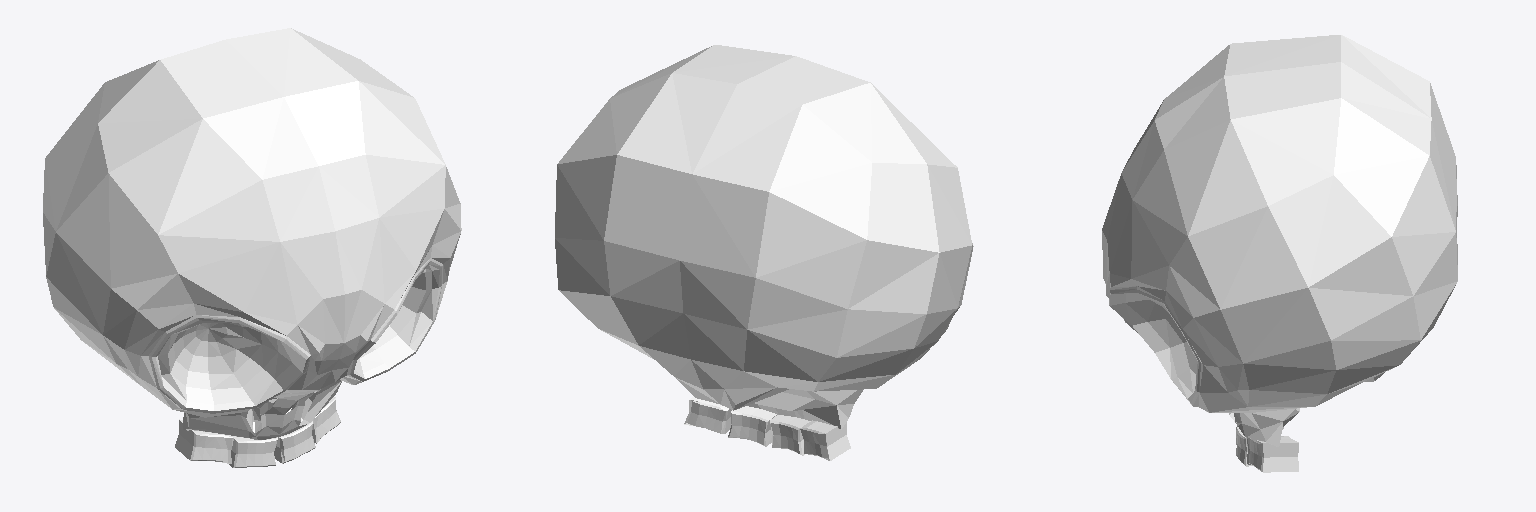
File: czachaobj.obj
3 views of the same model, side by side, from view 1: azimuth 30°, elevation 25°; view 2: azimuth 150°, elevation 25°; view 3: azimuth 270°, elevation 25° (orthographic).
Parts seen in each view (by area): view 1: group1_cialko, grzesznik2_group1; view 2: group1_cialko, grzesznik2_group1; view 3: group1_cialko, grzesznik2_group1.
Boxes of the visible parts, x1=… form: group1_cialko: x1=43, y1=28, x2=461, y2=439; grzesznik2_group1: x1=175, y1=397, x2=340, y2=467; group1_cialko: x1=555, y1=45, x2=973, y2=429; grzesznik2_group1: x1=684, y1=396, x2=850, y2=460; group1_cialko: x1=1102, y1=35, x2=1457, y2=446; grzesznik2_group1: x1=1236, y1=426, x2=1298, y2=472.
Size of the model in its own units: 10.69 by 10.66 by 8.87.